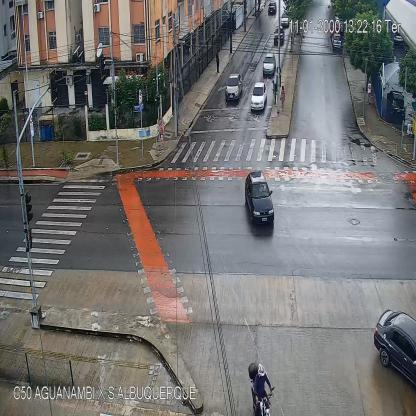car: (373, 310, 416, 384), (244, 171, 274, 230), (251, 81, 267, 110), (226, 73, 242, 101), (262, 53, 276, 75), (274, 28, 284, 46), (332, 35, 342, 48), (281, 12, 289, 28), (268, 2, 276, 15)
motorbike: (248, 364, 274, 416)
person: (160, 121, 166, 150), (280, 85, 285, 110), (272, 80, 277, 104), (216, 49, 219, 72)
